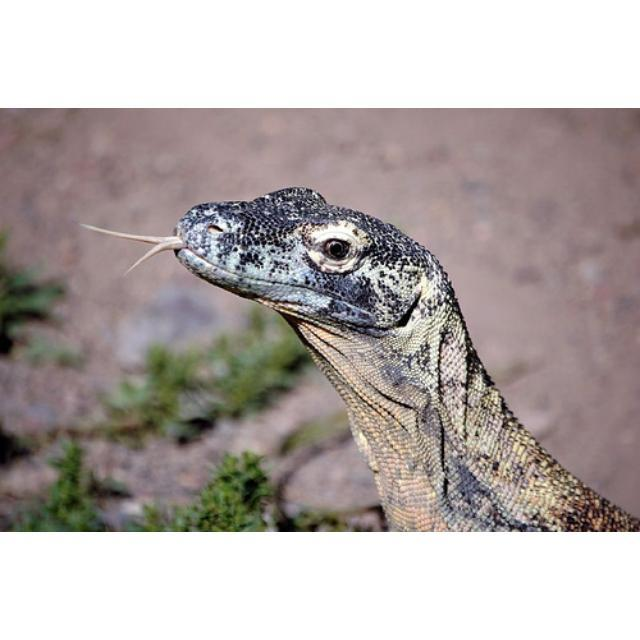KomodoDragon: (80, 186, 636, 530)
